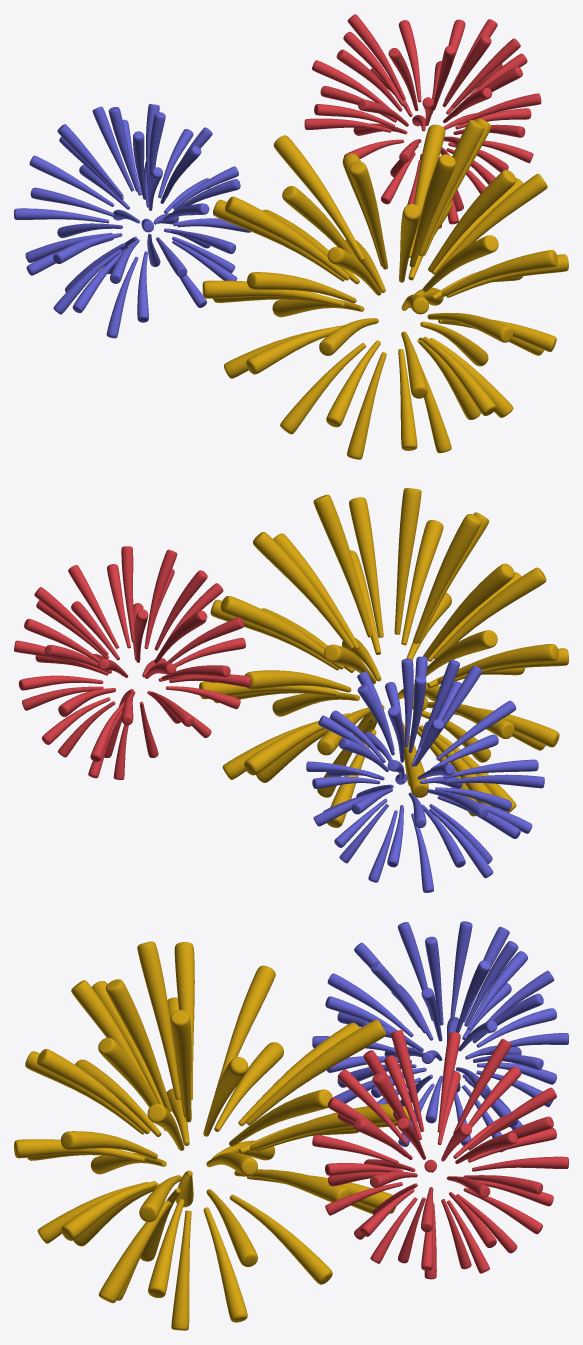
The model's file is hogmanay-3d-icon-417365641504.glb.
3 views of the same model, one above another, from view 1: azimuth 30°, elevation 25°; view 2: azimuth 150°, elevation 25°; view 3: azimuth 270°, elevation 25° (orthographic). The views are drawn at different scales.
Visible parts, largest first — view 1: Hogmanay 2, Hogmanay 1, Hogmanay 3; view 2: Hogmanay 2, Hogmanay 1, Hogmanay 3; view 3: Hogmanay 2, Hogmanay 3, Hogmanay 1.
Boxes of the visible parts, box(x1,y1,x2,y2) form: Hogmanay 2: box(202, 118, 568, 459); Hogmanay 1: box(14, 104, 250, 338); Hogmanay 3: box(304, 14, 541, 228); Hogmanay 2: box(199, 488, 568, 827); Hogmanay 1: box(306, 656, 544, 892); Hogmanay 3: box(14, 546, 250, 779); Hogmanay 2: box(14, 941, 409, 1330); Hogmanay 3: box(312, 1030, 568, 1279); Hogmanay 1: box(312, 921, 568, 1152).
Size of the model in its own units: 1.96 by 1.14 by 1.78.
